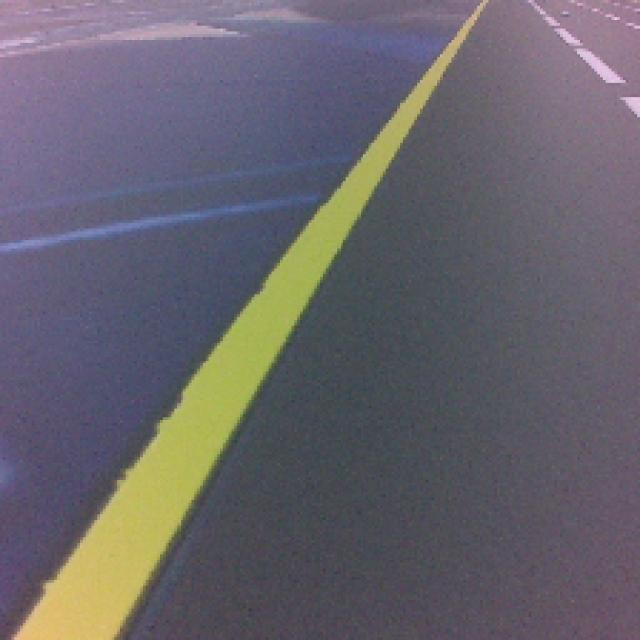Guard rail: (12, 195, 365, 640)
